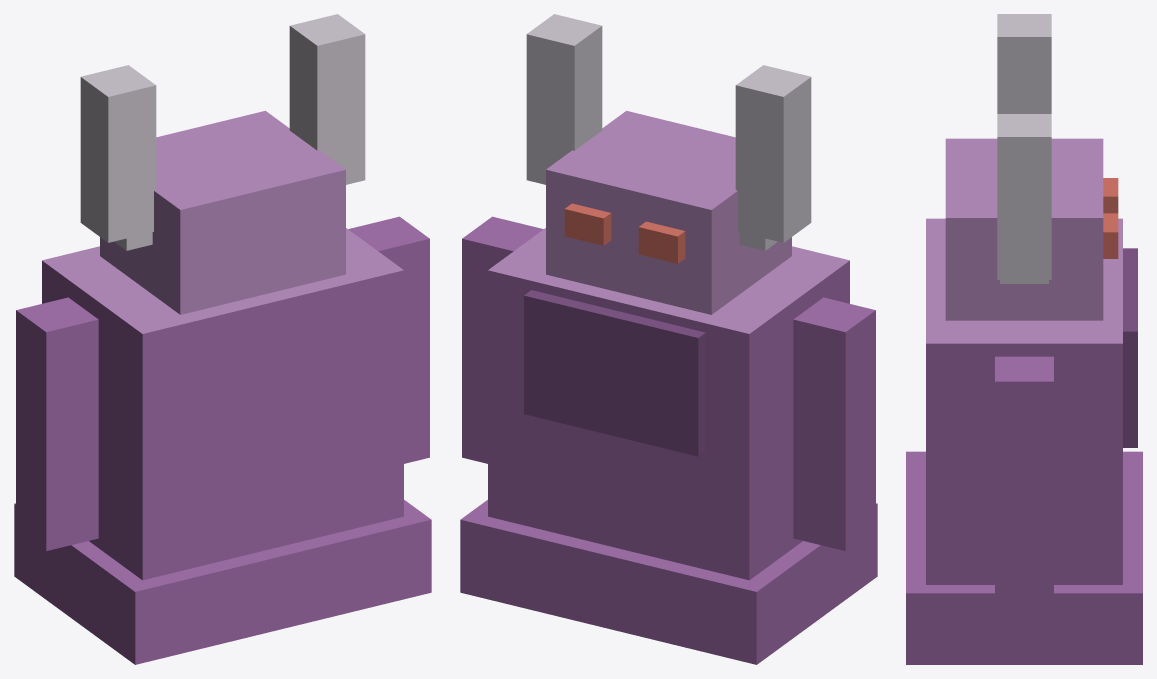
The model's file is enemy_boss.glb.
3 renders of one model, left to right at view 1: azimuth 30°, elevation 25°; view 2: azimuth 150°, elevation 25°; view 3: azimuth 270°, elevation 25°, orthographic. The views are drawn at different scales.
Visible parts, largest first — view 1: mesh0; view 2: mesh0; view 3: mesh0.
Boxes of the visible parts, x1,y1,x2,y2 form: mesh0: (14,14,431,664); mesh0: (460,14,877,664); mesh0: (906,14,1142,664).
Size of the model in its own units: 0.88 by 1.16 by 0.48.
